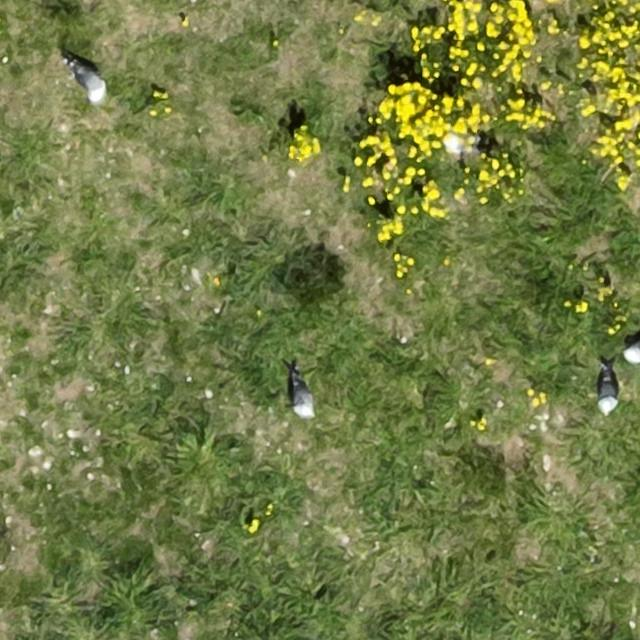umineko: (76, 66, 105, 102), (446, 132, 486, 155), (596, 374, 616, 413), (293, 382, 314, 419), (624, 337, 639, 361)
